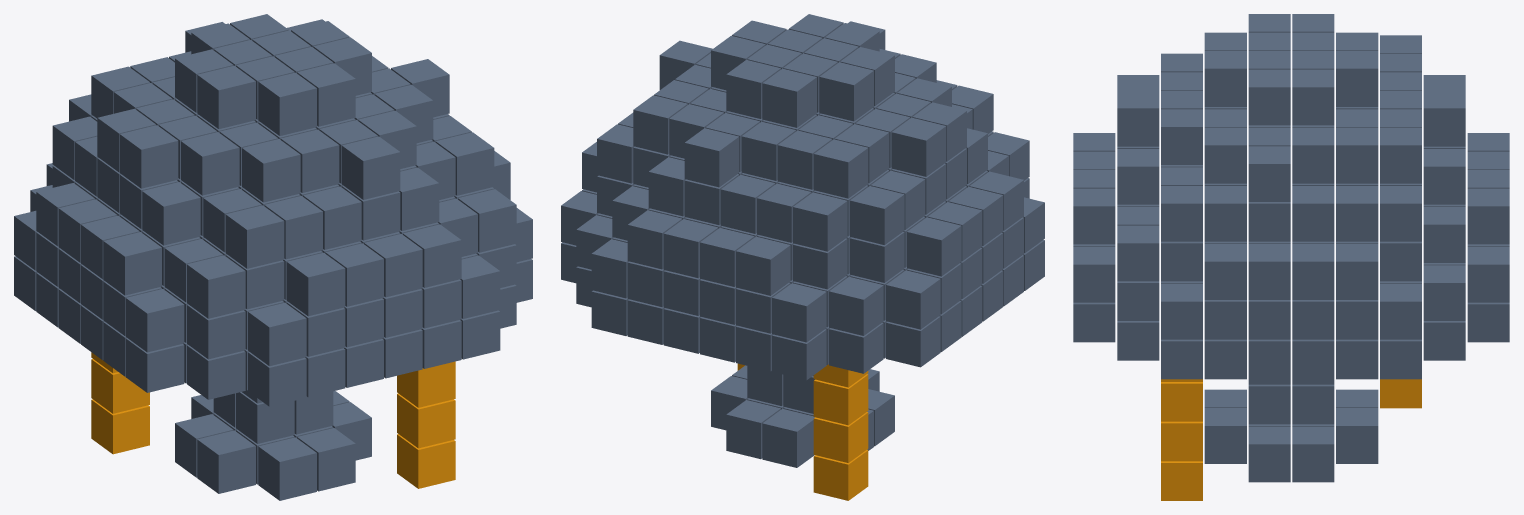
Rendered from stabilized.glb.
3 renders of one model, left to right at view 1: azimuth 30°, elevation 25°; view 2: azimuth 150°, elevation 25°; view 3: azimuth 270°, elevation 25°, orthographic. The views are drawn at different scales.
Parts seen in each view (by area): view 1: Original blocks, Columns; view 2: Original blocks, Columns; view 3: Original blocks, Columns.
Boxes of the visible parts, x1,y1,x2,y2 form: Original blocks: (14,14,532,500); Columns: (91,352,455,488); Original blocks: (561,14,1044,467); Columns: (737,363,868,500); Original blocks: (1073,14,1509,482); Columns: (1161,379,1421,500).
Size of the model in its own units: 0.996 by 0.996 by 0.996.
